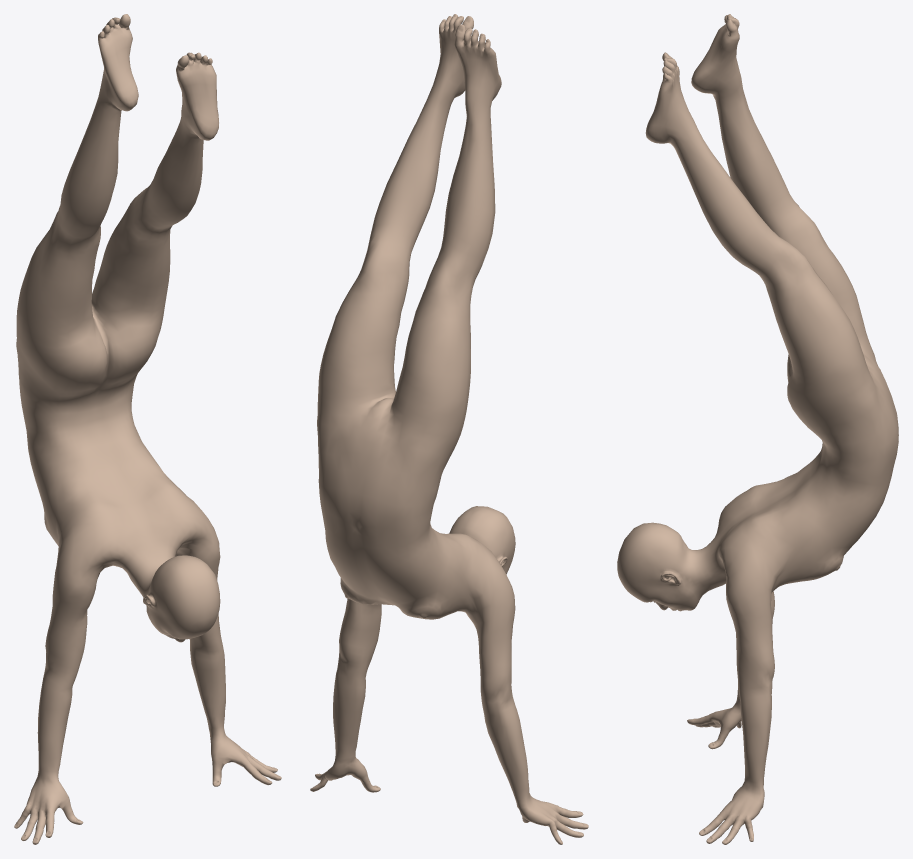
Rendered from bodyHighRes.dae.
The picture shows the model from 3 angles, left to right: view 1: azimuth 30°, elevation 25°; view 2: azimuth 150°, elevation 25°; view 3: azimuth 270°, elevation 25°; orthographic projection. The views are drawn at different scales.
Visible parts, largest first — view 1: body2-base; view 2: body2-base; view 3: body2-base.
Part boxes in pixels (left/top/right/bottom): body2-base: left=14, top=14, right=281, bottom=844; body2-base: left=310, top=14, right=588, bottom=844; body2-base: left=617, top=14, right=898, bottom=844.
Size of the model in its own units: 0.6877 by 0.6678 by 1.98.
